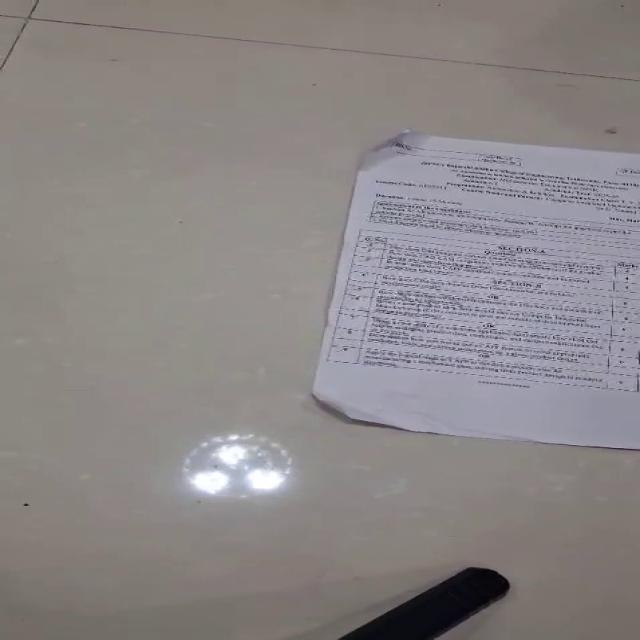paper: (309, 128, 639, 450)
